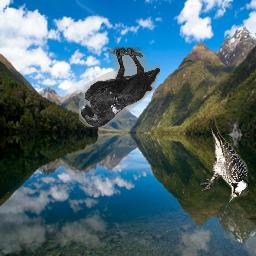Crow: (80, 47, 161, 127)
Woodpecker: (201, 118, 250, 203)
